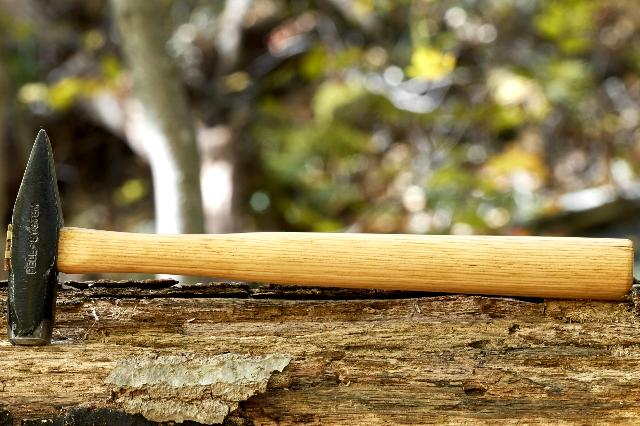hammer: (0, 125, 640, 353)
